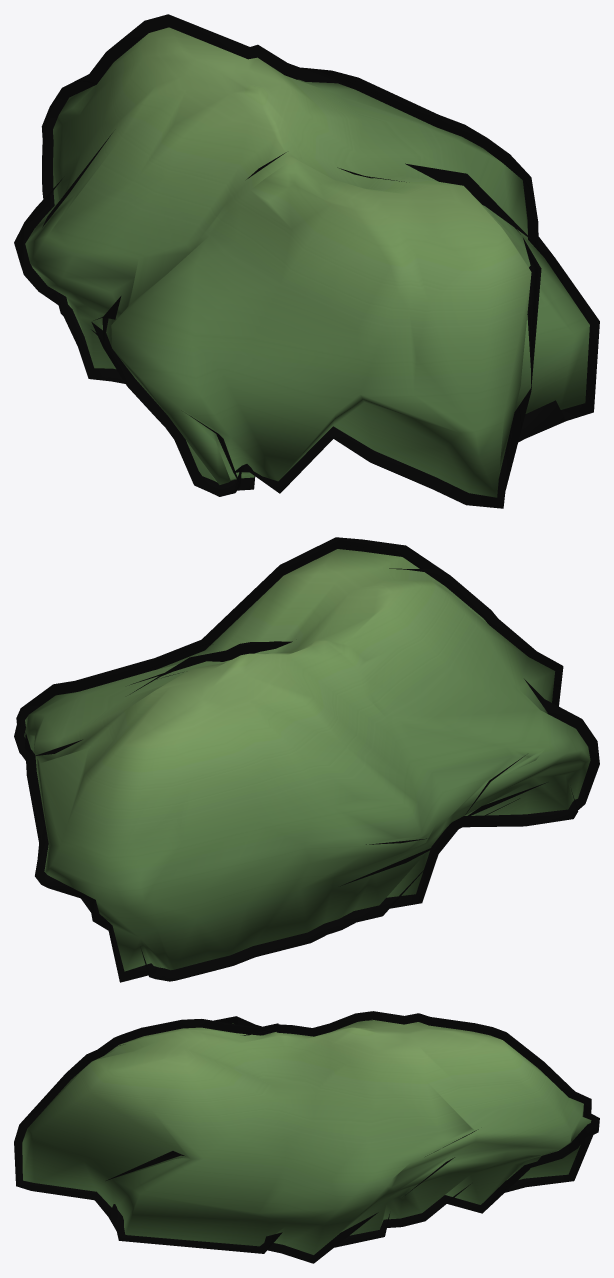
File: env_small_bush.glb
3 views of the same model, one above another, from view 1: azimuth 30°, elevation 25°; view 2: azimuth 150°, elevation 25°; view 3: azimuth 270°, elevation 25° (orthographic). The views are drawn at different scales.
Parts seen in each view (by area): view 1: Cube.013; view 2: Cube.013; view 3: Cube.013.
Part boxes in pixels (x1,y1,x2,y2): Cube.013: (14,14,599,508); Cube.013: (14,537,599,982); Cube.013: (14,1011,599,1263).
Bounding box in the file's own units: 0.319 × 0.1469 × 0.4565.
Materials: 2 (1 with a texture image).
